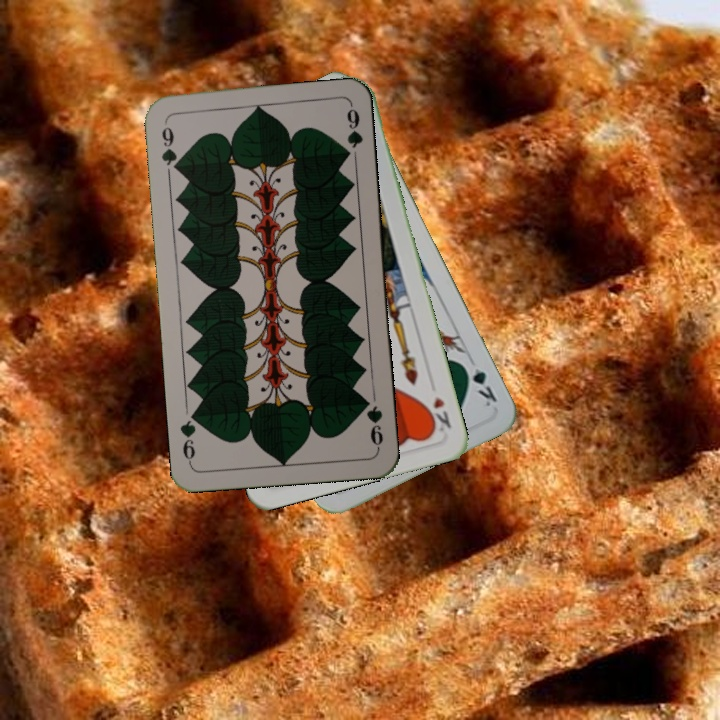G9: (359, 393, 386, 452), (158, 122, 182, 176)
GK: (458, 359, 500, 410)
HK: (423, 392, 454, 435)
